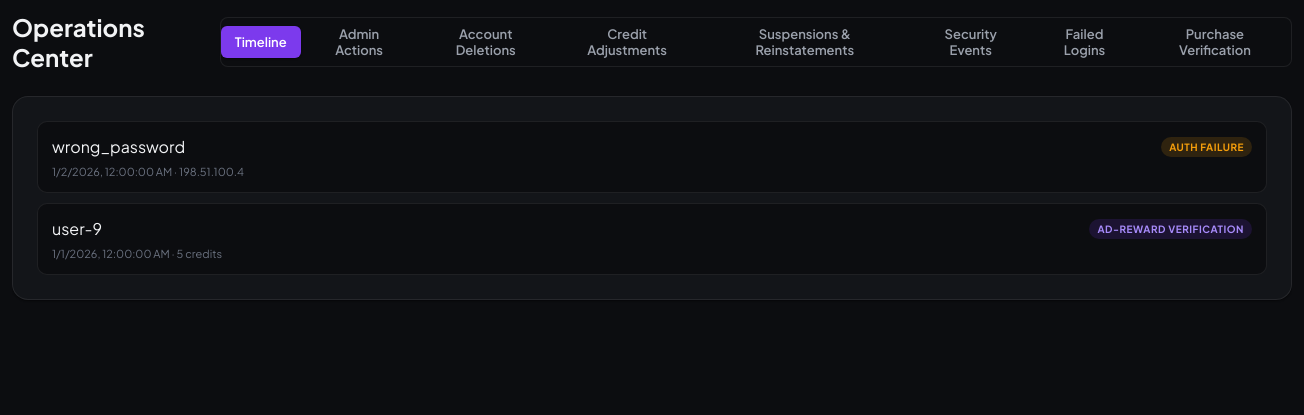
Test case: OperationsCenterPage - filtered audit tabs › shows an empty state when a filtered tab has nothing
Step 1. Click the button "Account Deletions" → coordinates (486, 42), box [417,18,554,66]
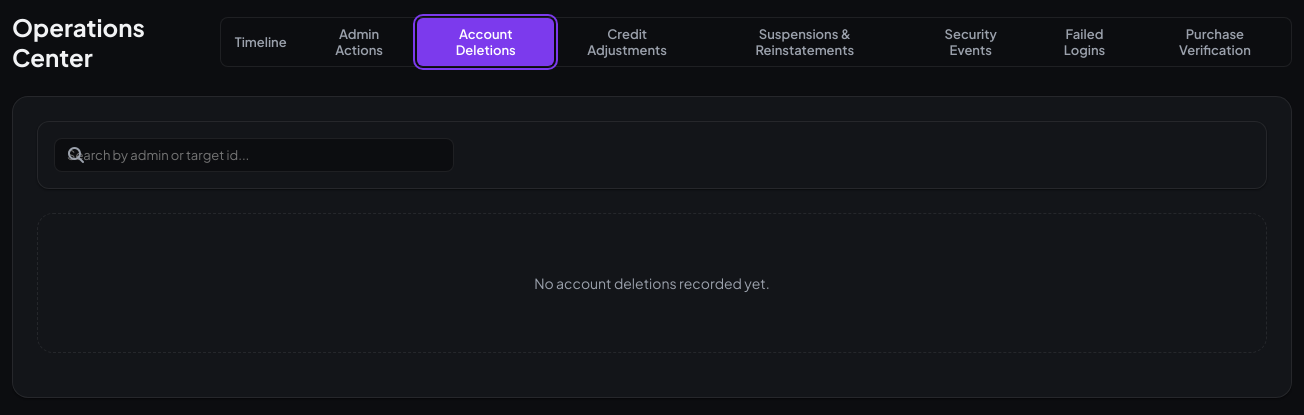
Expected: the text "No account deletions recorded yet." is shown, [534,274,770,292]
